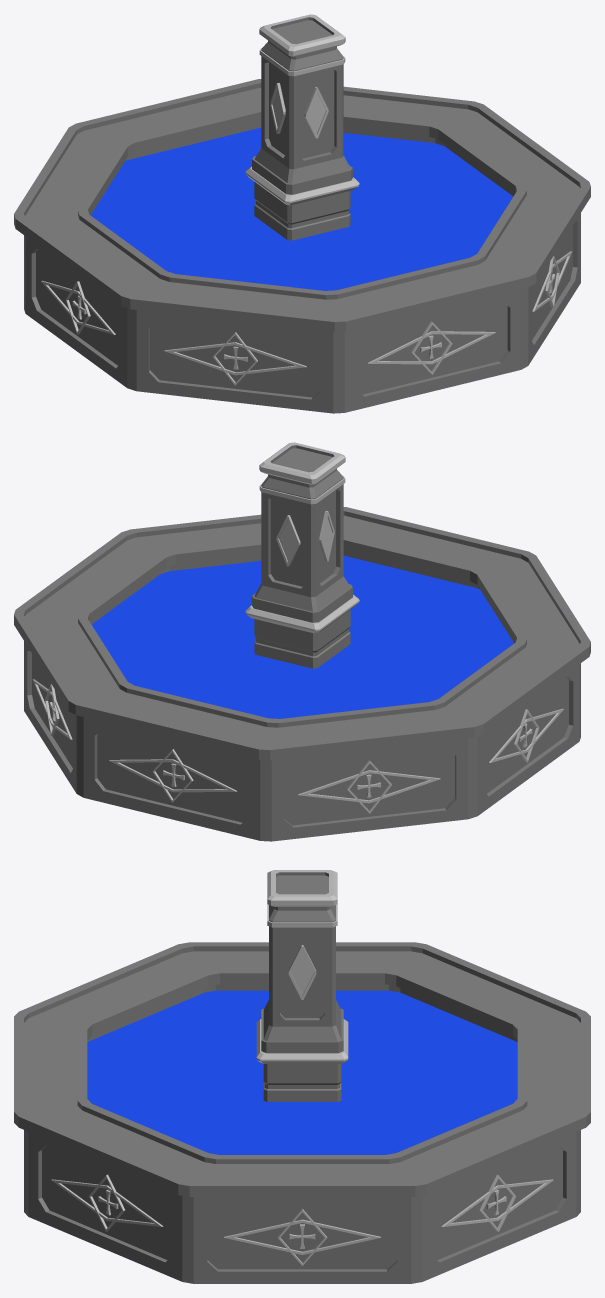
File: fountain_a.FBX
3 views of the same model, one above another, from view 1: azimuth 30°, elevation 25°; view 2: azimuth 150°, elevation 25°; view 3: azimuth 270°, elevation 25° (orthographic). The views are drawn at different scales.
Parts seen in each view (by area): view 1: fountain_a; view 2: fountain_a; view 3: fountain_a.
Boxes of the visible parts, left/top/right/bottom form: fountain_a: left=14, top=14, right=590, bottom=413; fountain_a: left=14, top=442, right=590, bottom=841; fountain_a: left=14, top=870, right=590, bottom=1283.
Bounding box in the file's own units: 4.31 × 2.33 × 4.31.
